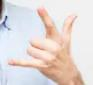back: (9, 6, 77, 80)
